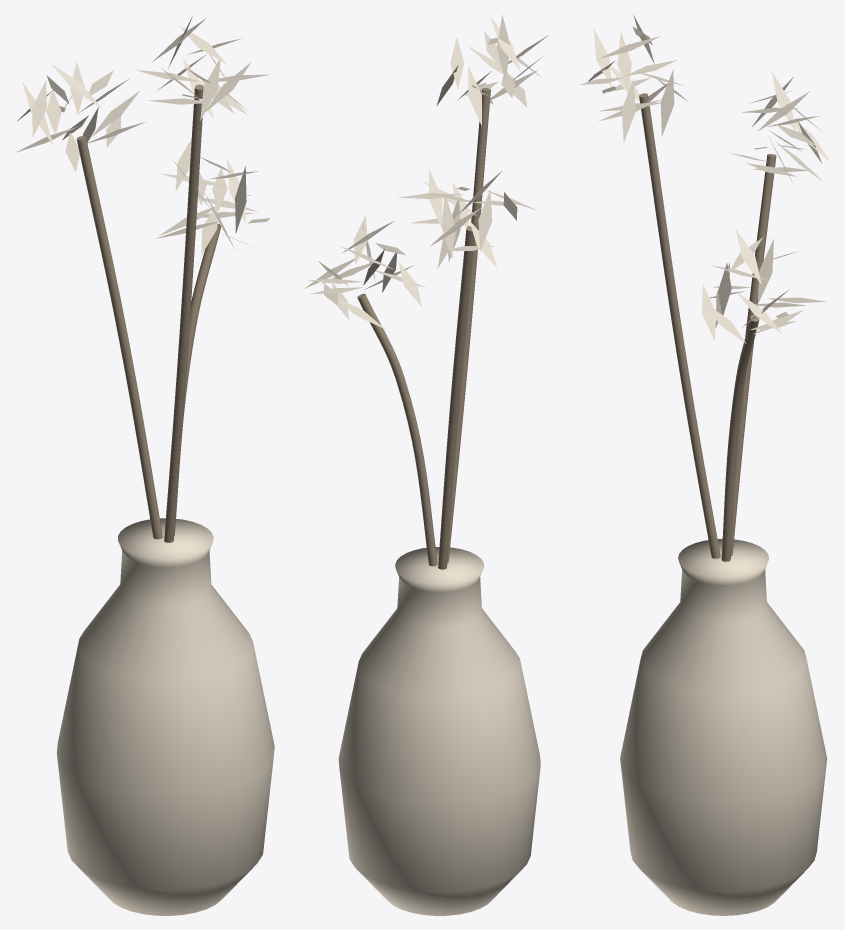
Rendered from mo_vase.glb.
The picture shows the model from 3 angles, left to right: view 1: azimuth 30°, elevation 25°; view 2: azimuth 150°, elevation 25°; view 3: azimuth 270°, elevation 25°; orthographic projection. The views are drawn at different scales.
Visible parts, largest first — view 1: vase, stem2, stem1, tuft1, tuft0, tuft2, stem0; view 2: vase, tuft1, tuft0, stem1, tuft2, stem2, stem0; view 3: vase, stem2, tuft0, tuft2, tuft1, stem0, stem1.
Boxes of the visible parts, x1=… form: vase: x1=56, y1=518, x2=274, y2=915; stem2: x1=164, y1=84, x2=203, y2=542; stem1: x1=76, y1=136, x2=162, y2=539; tuft1: x1=15, y1=62, x2=145, y2=172; tuft0: x1=156, y1=139, x2=270, y2=255; tuft2: x1=136, y1=16, x2=269, y2=120; stem0: x1=174, y1=223, x2=221, y2=535; vase: x1=338, y1=547, x2=540, y2=915; tuft1: x1=398, y1=169, x2=537, y2=268; tuft0: x1=304, y1=215, x2=425, y2=329; stem1: x1=438, y1=226, x2=474, y2=569; tuft2: x1=436, y1=14, x2=548, y2=125; stem2: x1=447, y1=88, x2=490, y2=563; stem0: x1=357, y1=293, x2=437, y2=566; vase: x1=620, y1=539, x2=827, y2=915; stem2: x1=639, y1=93, x2=720, y2=558; tuft0: x1=702, y1=229, x2=826, y2=343; tuft2: x1=579, y1=15, x2=688, y2=142; tuft1: x1=730, y1=71, x2=829, y2=181; stem0: x1=721, y1=315, x2=759, y2=561; stem1: x1=731, y1=154, x2=776, y2=555.
Bounding box in the file's own units: 0.2258 × 0.8328 × 0.2193.
